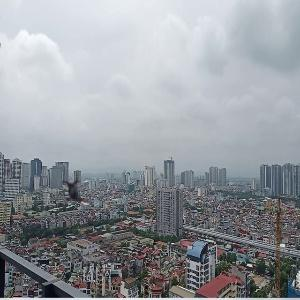drone: (58, 175, 94, 211)
